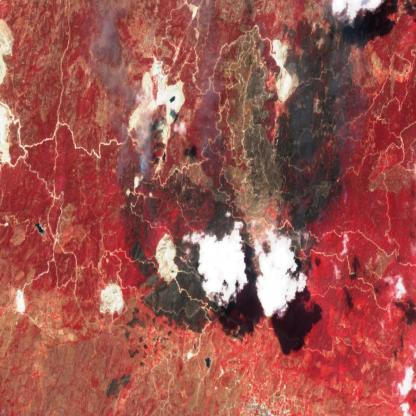fire: (110, 162, 149, 194)
